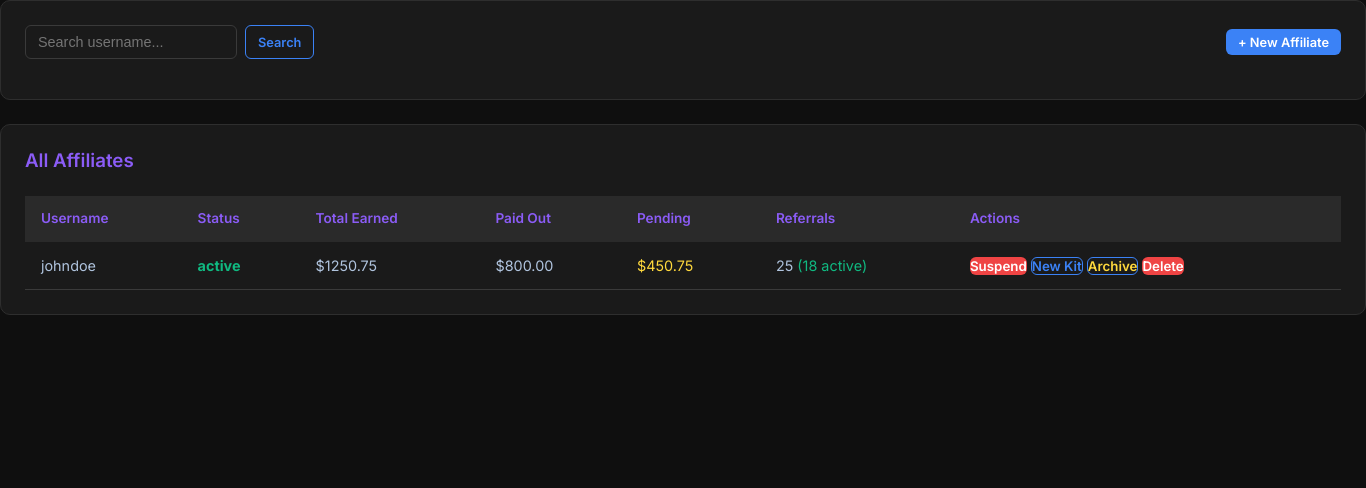
Test case: Create Affiliate form › shows error message when createAffiliate API fails
The width and height of the screenshot is (1366, 488).
Click the button "+ New Affiliate" at x=1284, y=42, box top-left (1226, 29), bottom-right (1341, 55)
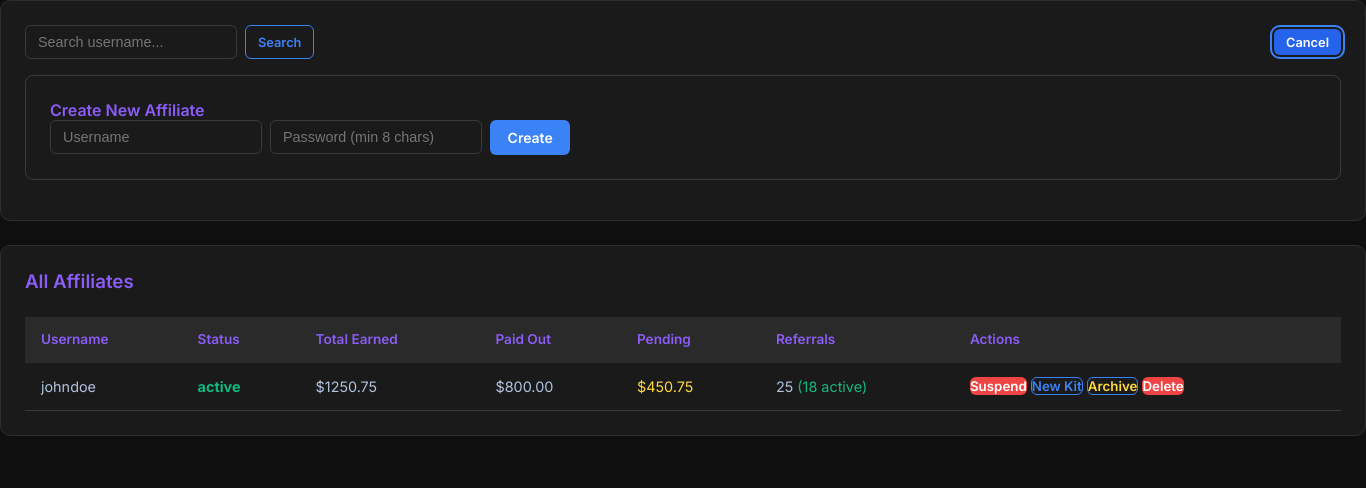
Type "newuser" into the field with placeholder "Username" at x=156, y=137, box top-left (50, 120), bottom-right (262, 154)
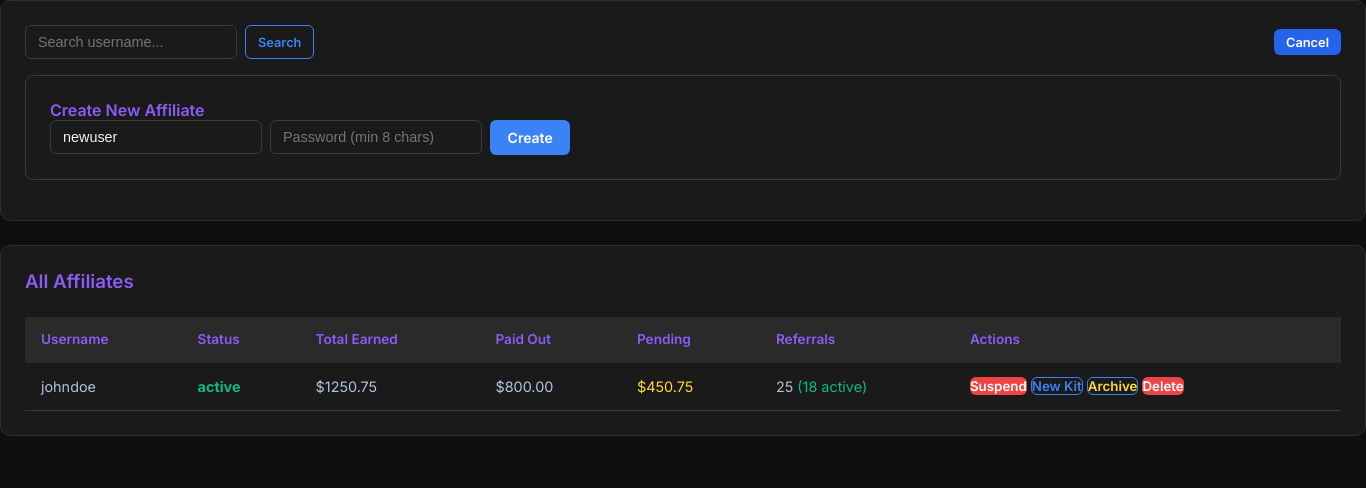
Type "securepass123" into the password field with placeholder "Password (min 8 chars)" at x=376, y=137, box top-left (270, 120), bottom-right (482, 154)
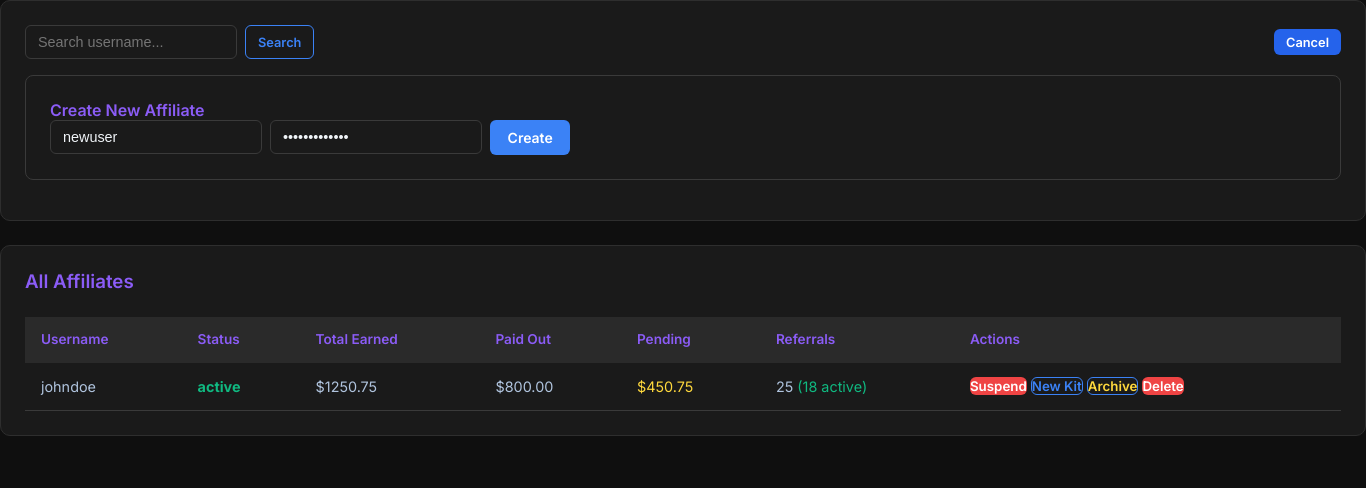
Click the button "Create" at x=530, y=137, box top-left (490, 120), bottom-right (570, 155)
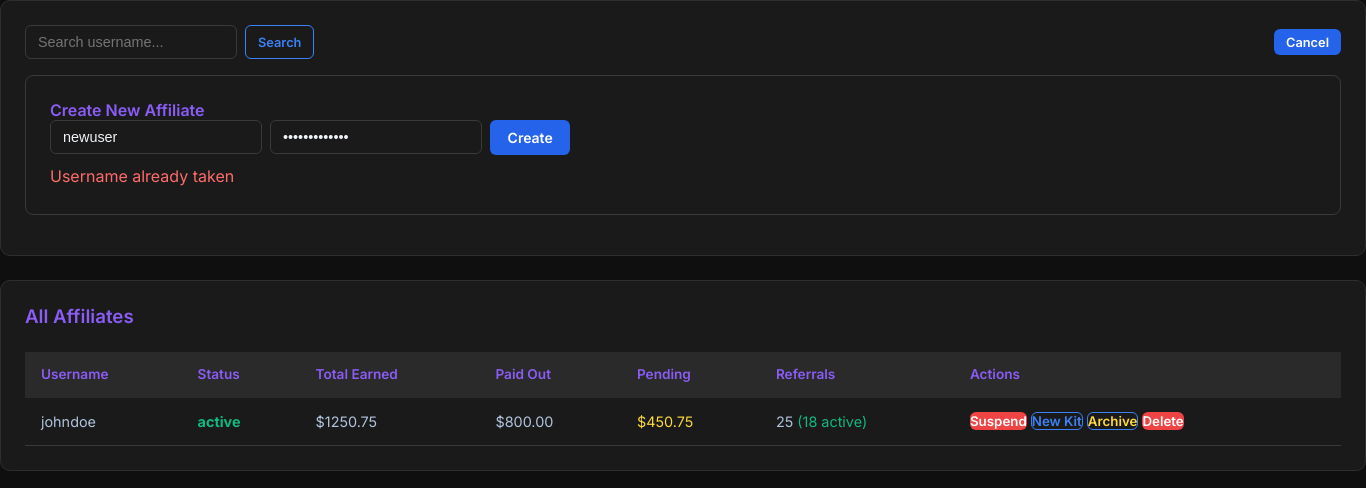
Expected: the text "Username already taken" is shown, top-left (50, 166), bottom-right (234, 186)
